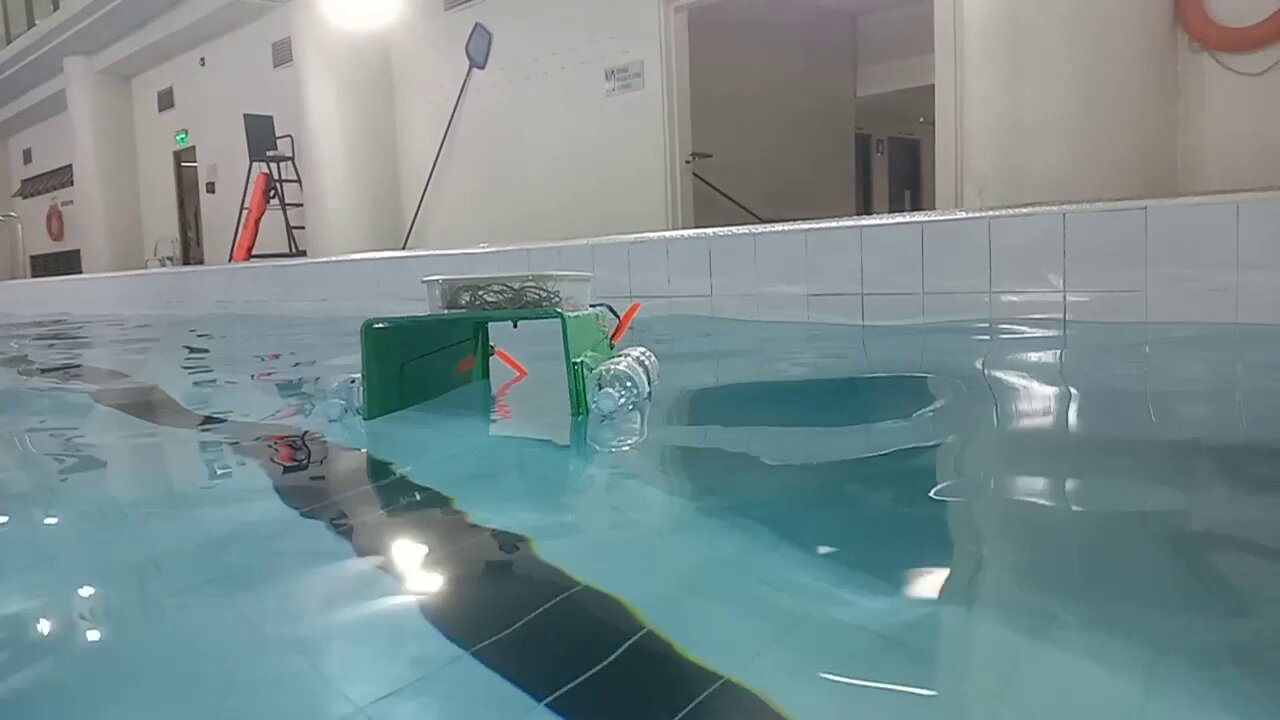drone: (322, 269, 660, 424)
